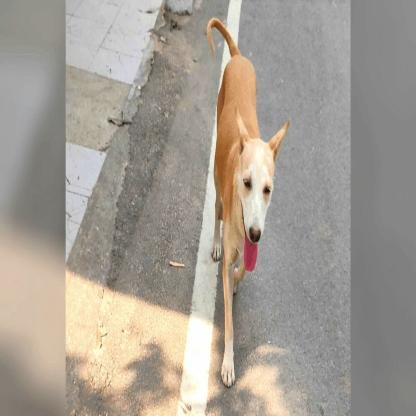dog: (209, 22, 274, 388)
